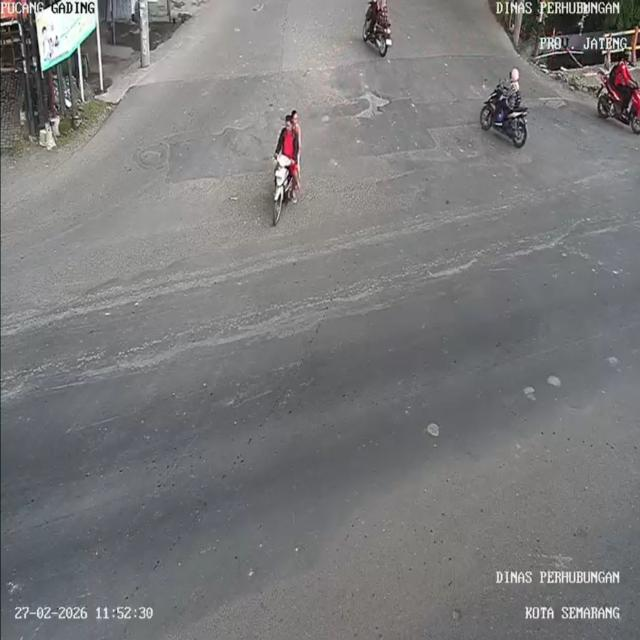motorcycle: (483, 90, 528, 148), (597, 77, 640, 132), (266, 148, 294, 229), (358, 9, 391, 58)
person: (610, 50, 637, 100), (272, 116, 298, 166), (504, 62, 522, 112), (289, 112, 302, 143), (375, 0, 386, 28)
rider_region: (264, 110, 306, 230), (476, 66, 533, 150), (595, 56, 640, 139), (358, 0, 392, 59)
